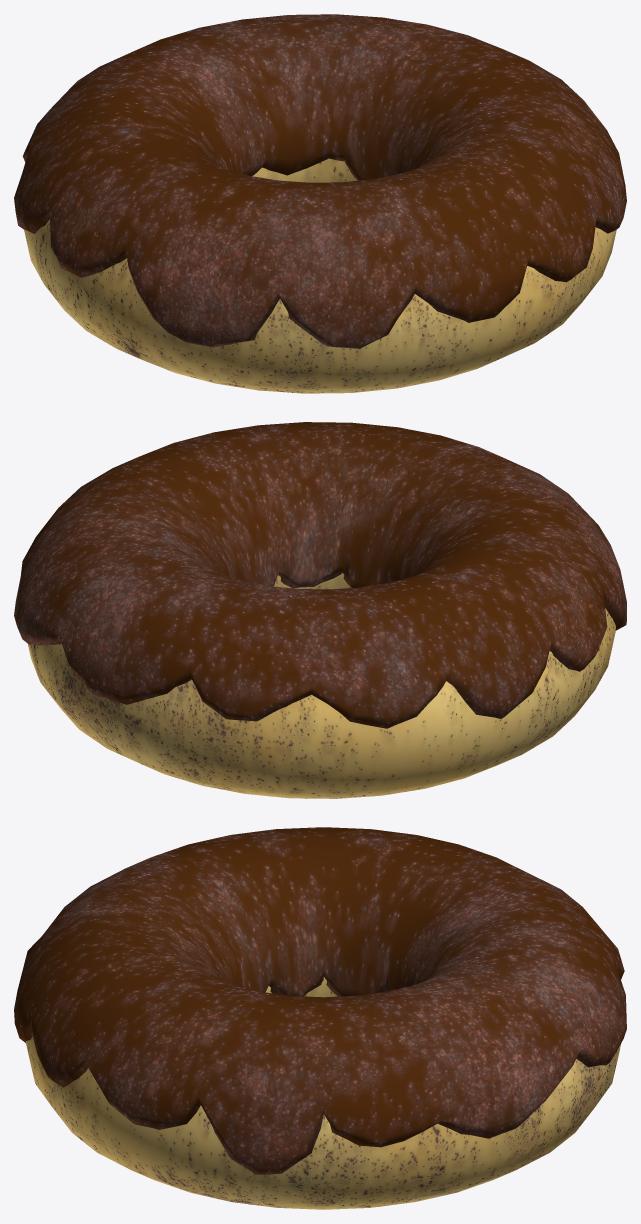
File: Doughnut.fbx
The picture shows the model from 3 angles, top to bottom: view 1: azimuth 30°, elevation 25°; view 2: azimuth 150°, elevation 25°; view 3: azimuth 270°, elevation 25°; orthographic projection.
Parts seen in each view (by area): view 1: Doughnut_LOD0; view 2: Doughnut_LOD0; view 3: Doughnut_LOD0.
Boxes of the visible parts, bbox=[...] form: Doughnut_LOD0: bbox=[14, 14, 626, 393]; Doughnut_LOD0: bbox=[14, 422, 626, 798]; Doughnut_LOD0: bbox=[14, 827, 626, 1209].
Size of what is drawn, in the model's own units: 3.07 by 1.06 by 3.05.
Materials: 1 (1 with a texture image).
